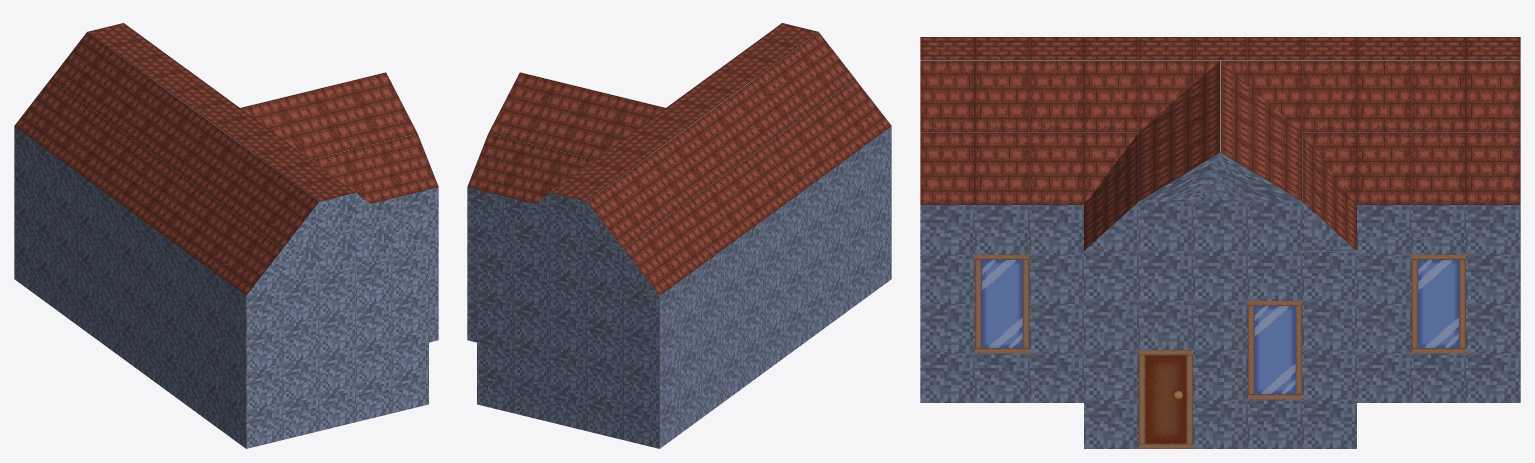
The model's file is house3.dae.
3 views of the same model, side by side, from view 1: azimuth 30°, elevation 25°; view 2: azimuth 150°, elevation 25°; view 3: azimuth 270°, elevation 25° (orthographic). The views are drawn at different scales.
Visible parts, largest first — view 1: house-col; view 2: house-col; view 3: house-col.
Boxes of the visible parts, <box> form: house-col: <box>14,23,438,448</box>; house-col: <box>467,23,891,448</box>; house-col: <box>920,37,1520,448</box>.
Size of the model in its own units: 14 by 22 by 12.
1 material, 1 textured.
